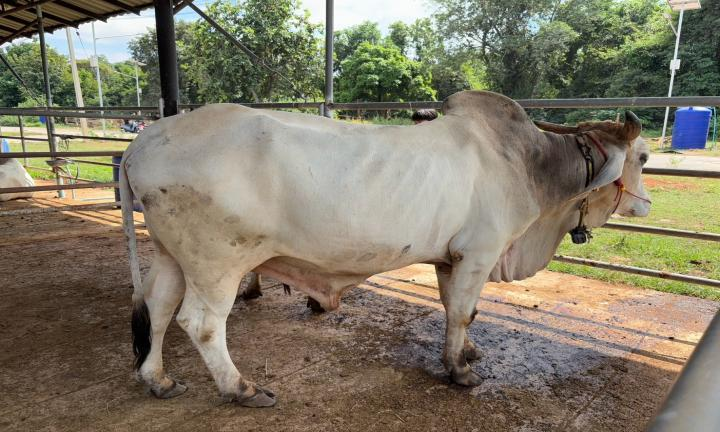Brahman: (120, 91, 649, 406)
